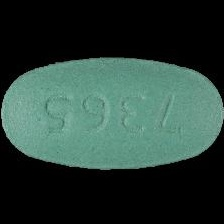66336-665: (0, 0, 224, 224)
